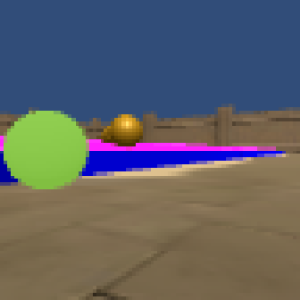goodGoal: (4, 107, 88, 189)
goodGoalMulti: (108, 115, 143, 148), (100, 124, 114, 143)
platform: (90, 152, 283, 173)
ramp: (89, 140, 261, 153)
